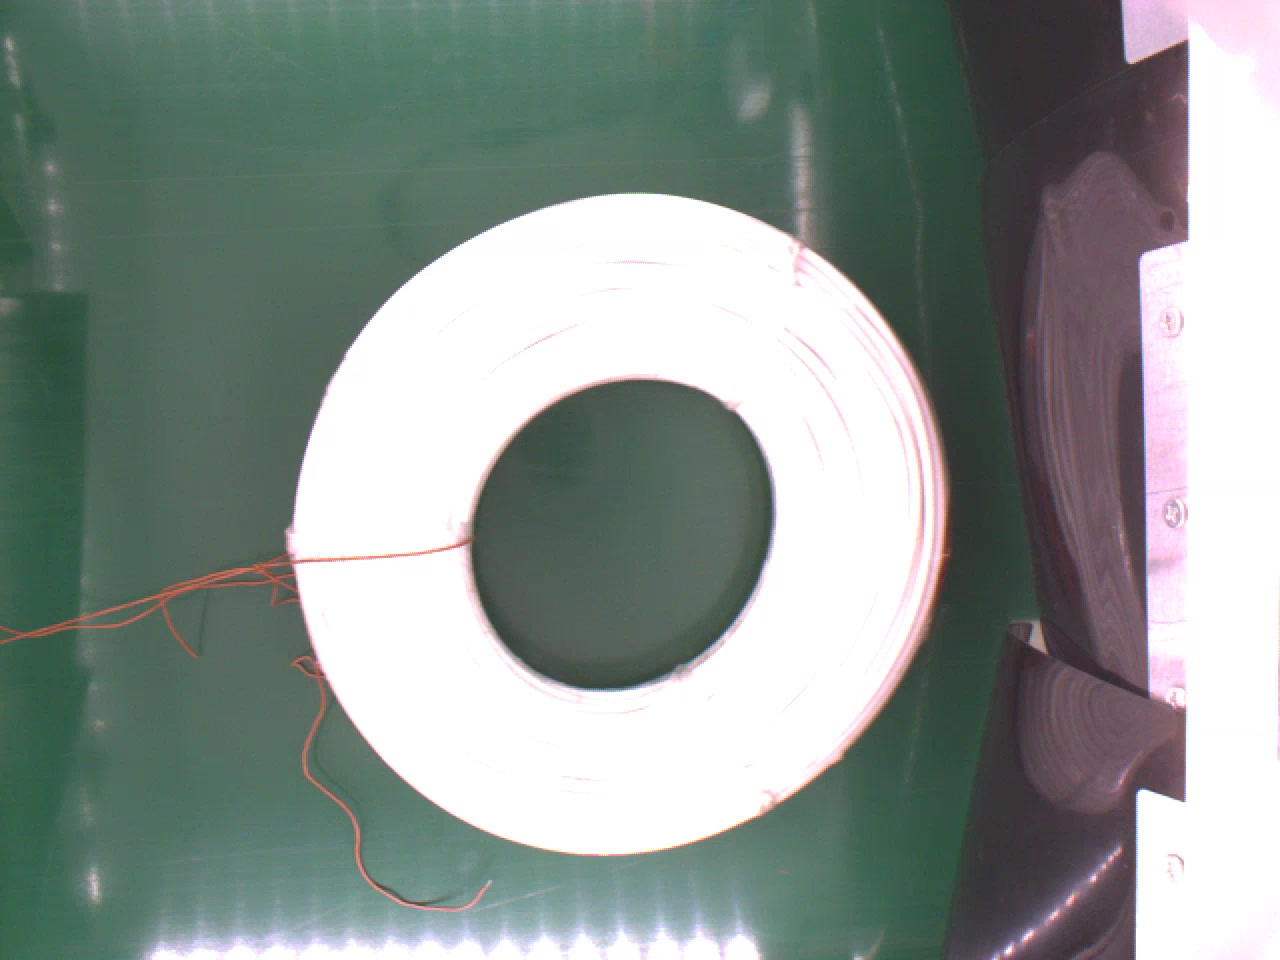white: (285, 188, 964, 860)
